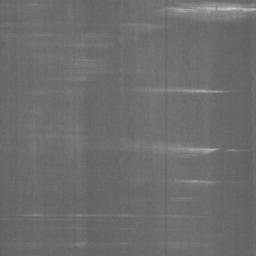Waist folding: (23, 178, 239, 221), (159, 0, 256, 24), (120, 142, 256, 157), (33, 76, 91, 96), (121, 86, 232, 95), (0, 22, 50, 38), (65, 240, 131, 249), (69, 42, 107, 49), (122, 22, 157, 28), (0, 2, 41, 7)
